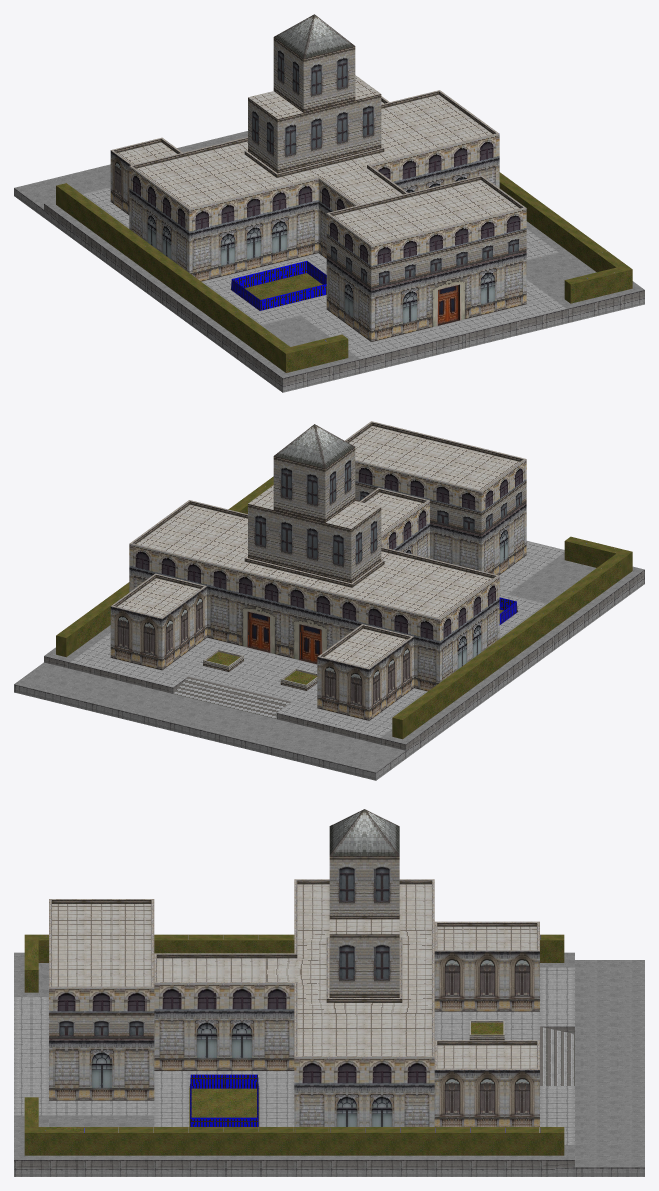
File: building_01_smooth.glb
3 renders of one model, top to bottom at view 1: azimuth 30°, elevation 25°; view 2: azimuth 150°, elevation 25°; view 3: azimuth 270°, elevation 25°, orthographic. The views are drawn at different scales.
Visible parts, largest first — view 1: building_01_smooth2; view 2: building_01_smooth2; view 3: building_01_smooth2.
Part boxes in pixels (<box>): building_01_smooth2: <box>14,14,644,392</box>; building_01_smooth2: <box>14,421,644,780</box>; building_01_smooth2: <box>14,809,644,1176</box>.
Bounding box in the file's own units: 70 × 41.59 × 90.
Materials: 1 (1 with a texture image).
